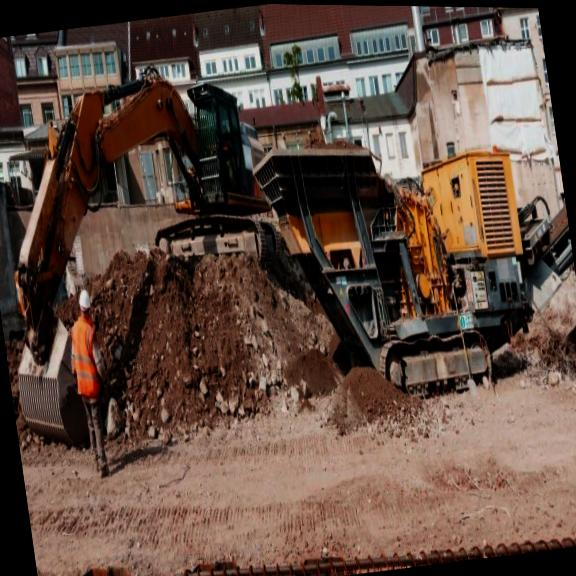safety_vest: (68, 315, 102, 399)
